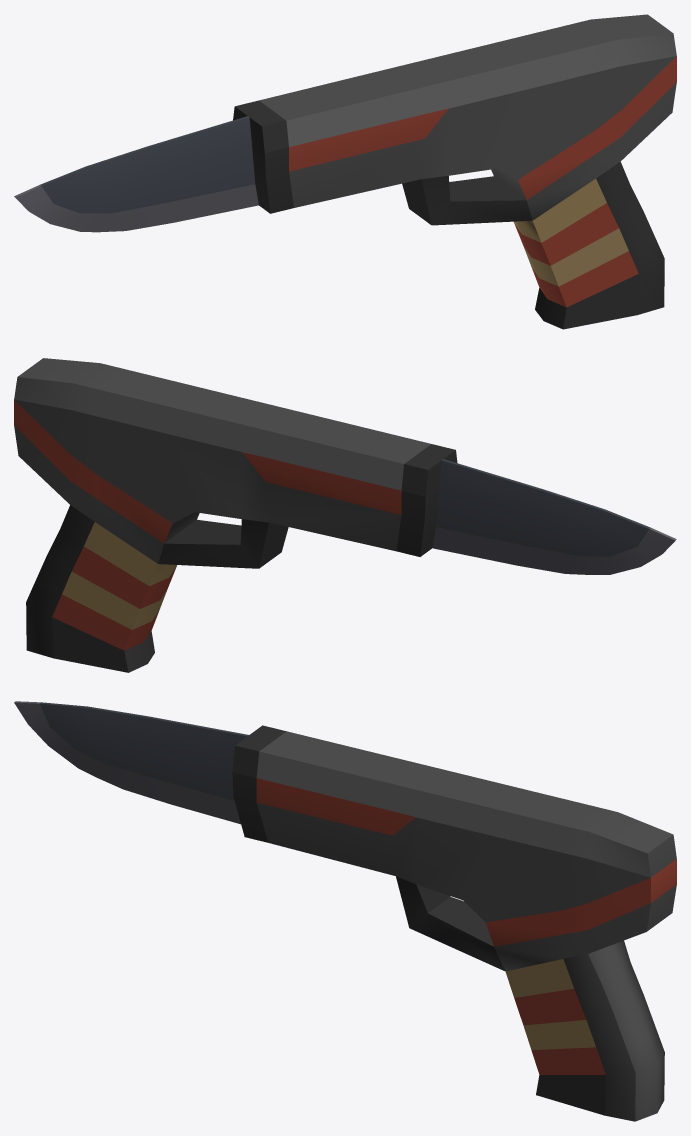
The model's file is scene_lwTs6BwXa5.glb.
3 views of the same model, one above another, from view 1: azimuth 30°, elevation 25°; view 2: azimuth 150°, elevation 25°; view 3: azimuth 330°, elevation 25° (orthographic).
Visible parts, largest first — view 1: Box001; view 2: Box001; view 3: Box001.
Part boxes in pixels (box(x1,y1,x2,y2)): Box001: box(14, 14, 676, 329); Box001: box(14, 358, 676, 672); Box001: box(14, 701, 676, 1121).
Bounding box in the file's own units: 138 × 56.53 × 12.1.
